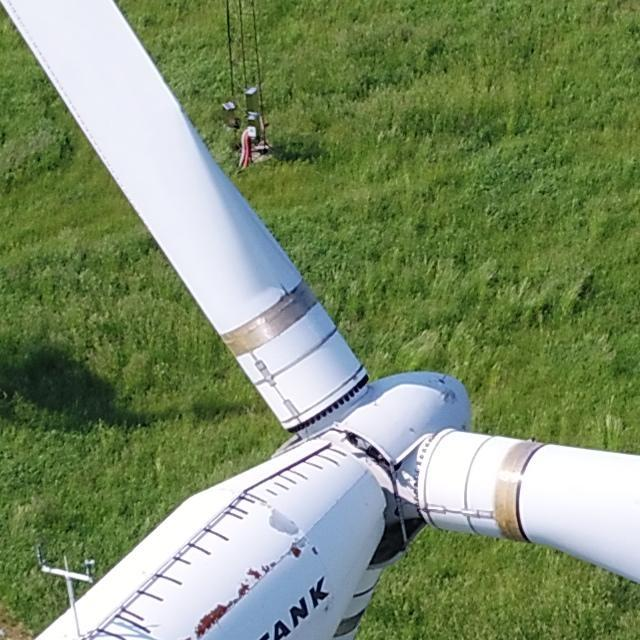damage: (192, 604, 230, 636), (267, 508, 300, 536), (236, 581, 250, 599), (245, 567, 261, 580), (224, 598, 241, 609), (290, 546, 302, 560), (259, 564, 270, 576), (310, 544, 320, 556), (322, 604, 330, 615), (270, 561, 277, 568)
